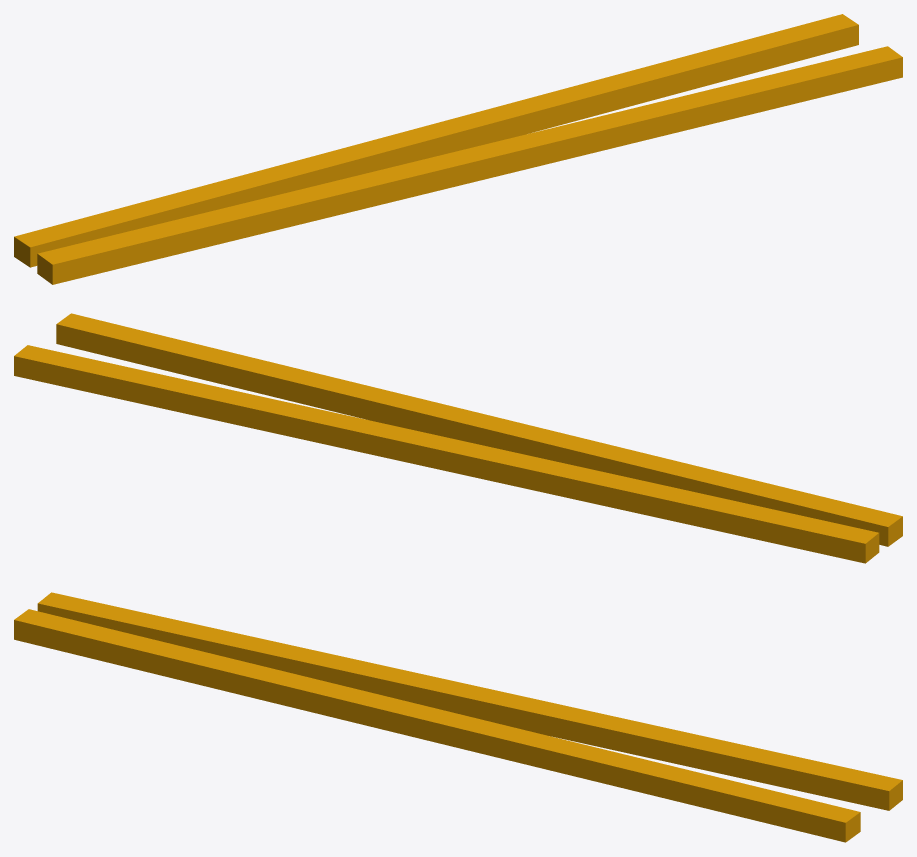
File: Chopsticks.glb
The picture shows the model from 3 angles, top to bottom: view 1: azimuth 30°, elevation 25°; view 2: azimuth 150°, elevation 25°; view 3: azimuth 330°, elevation 25°; orthographic projection. The views are drawn at different scales.
Visible parts, largest first — view 1: Chopstick, Chopstick.001; view 2: Chopstick.001, Chopstick; view 3: Chopstick, Chopstick.001.
Boxes of the visible parts, x1,y1,x2,y2 form: Chopstick: [37, 46, 902, 284]; Chopstick.001: [14, 14, 858, 267]; Chopstick.001: [14, 345, 879, 563]; Chopstick: [56, 313, 902, 546]; Chopstick: [14, 609, 860, 842]; Chopstick.001: [37, 592, 902, 810].
Size of the model in its own units: 6.72 by 0.1526 by 0.8129.
